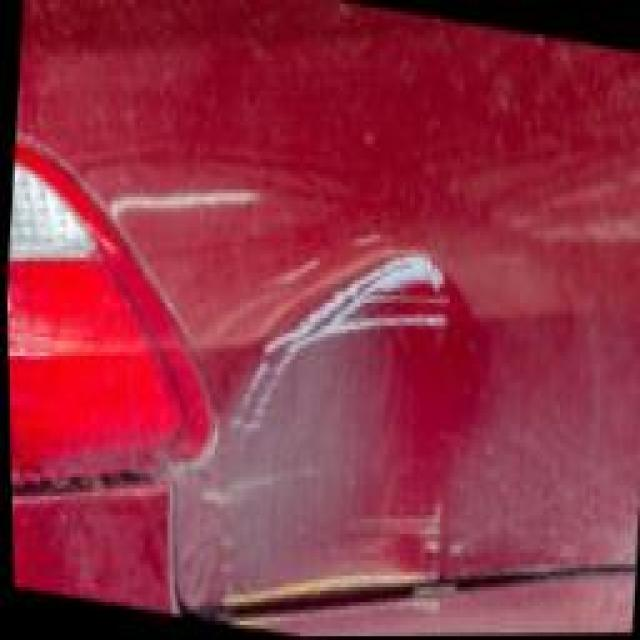Dickey: (175, 197, 508, 620)
